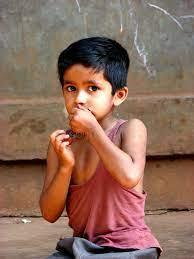Human: (41, 26, 159, 259)
